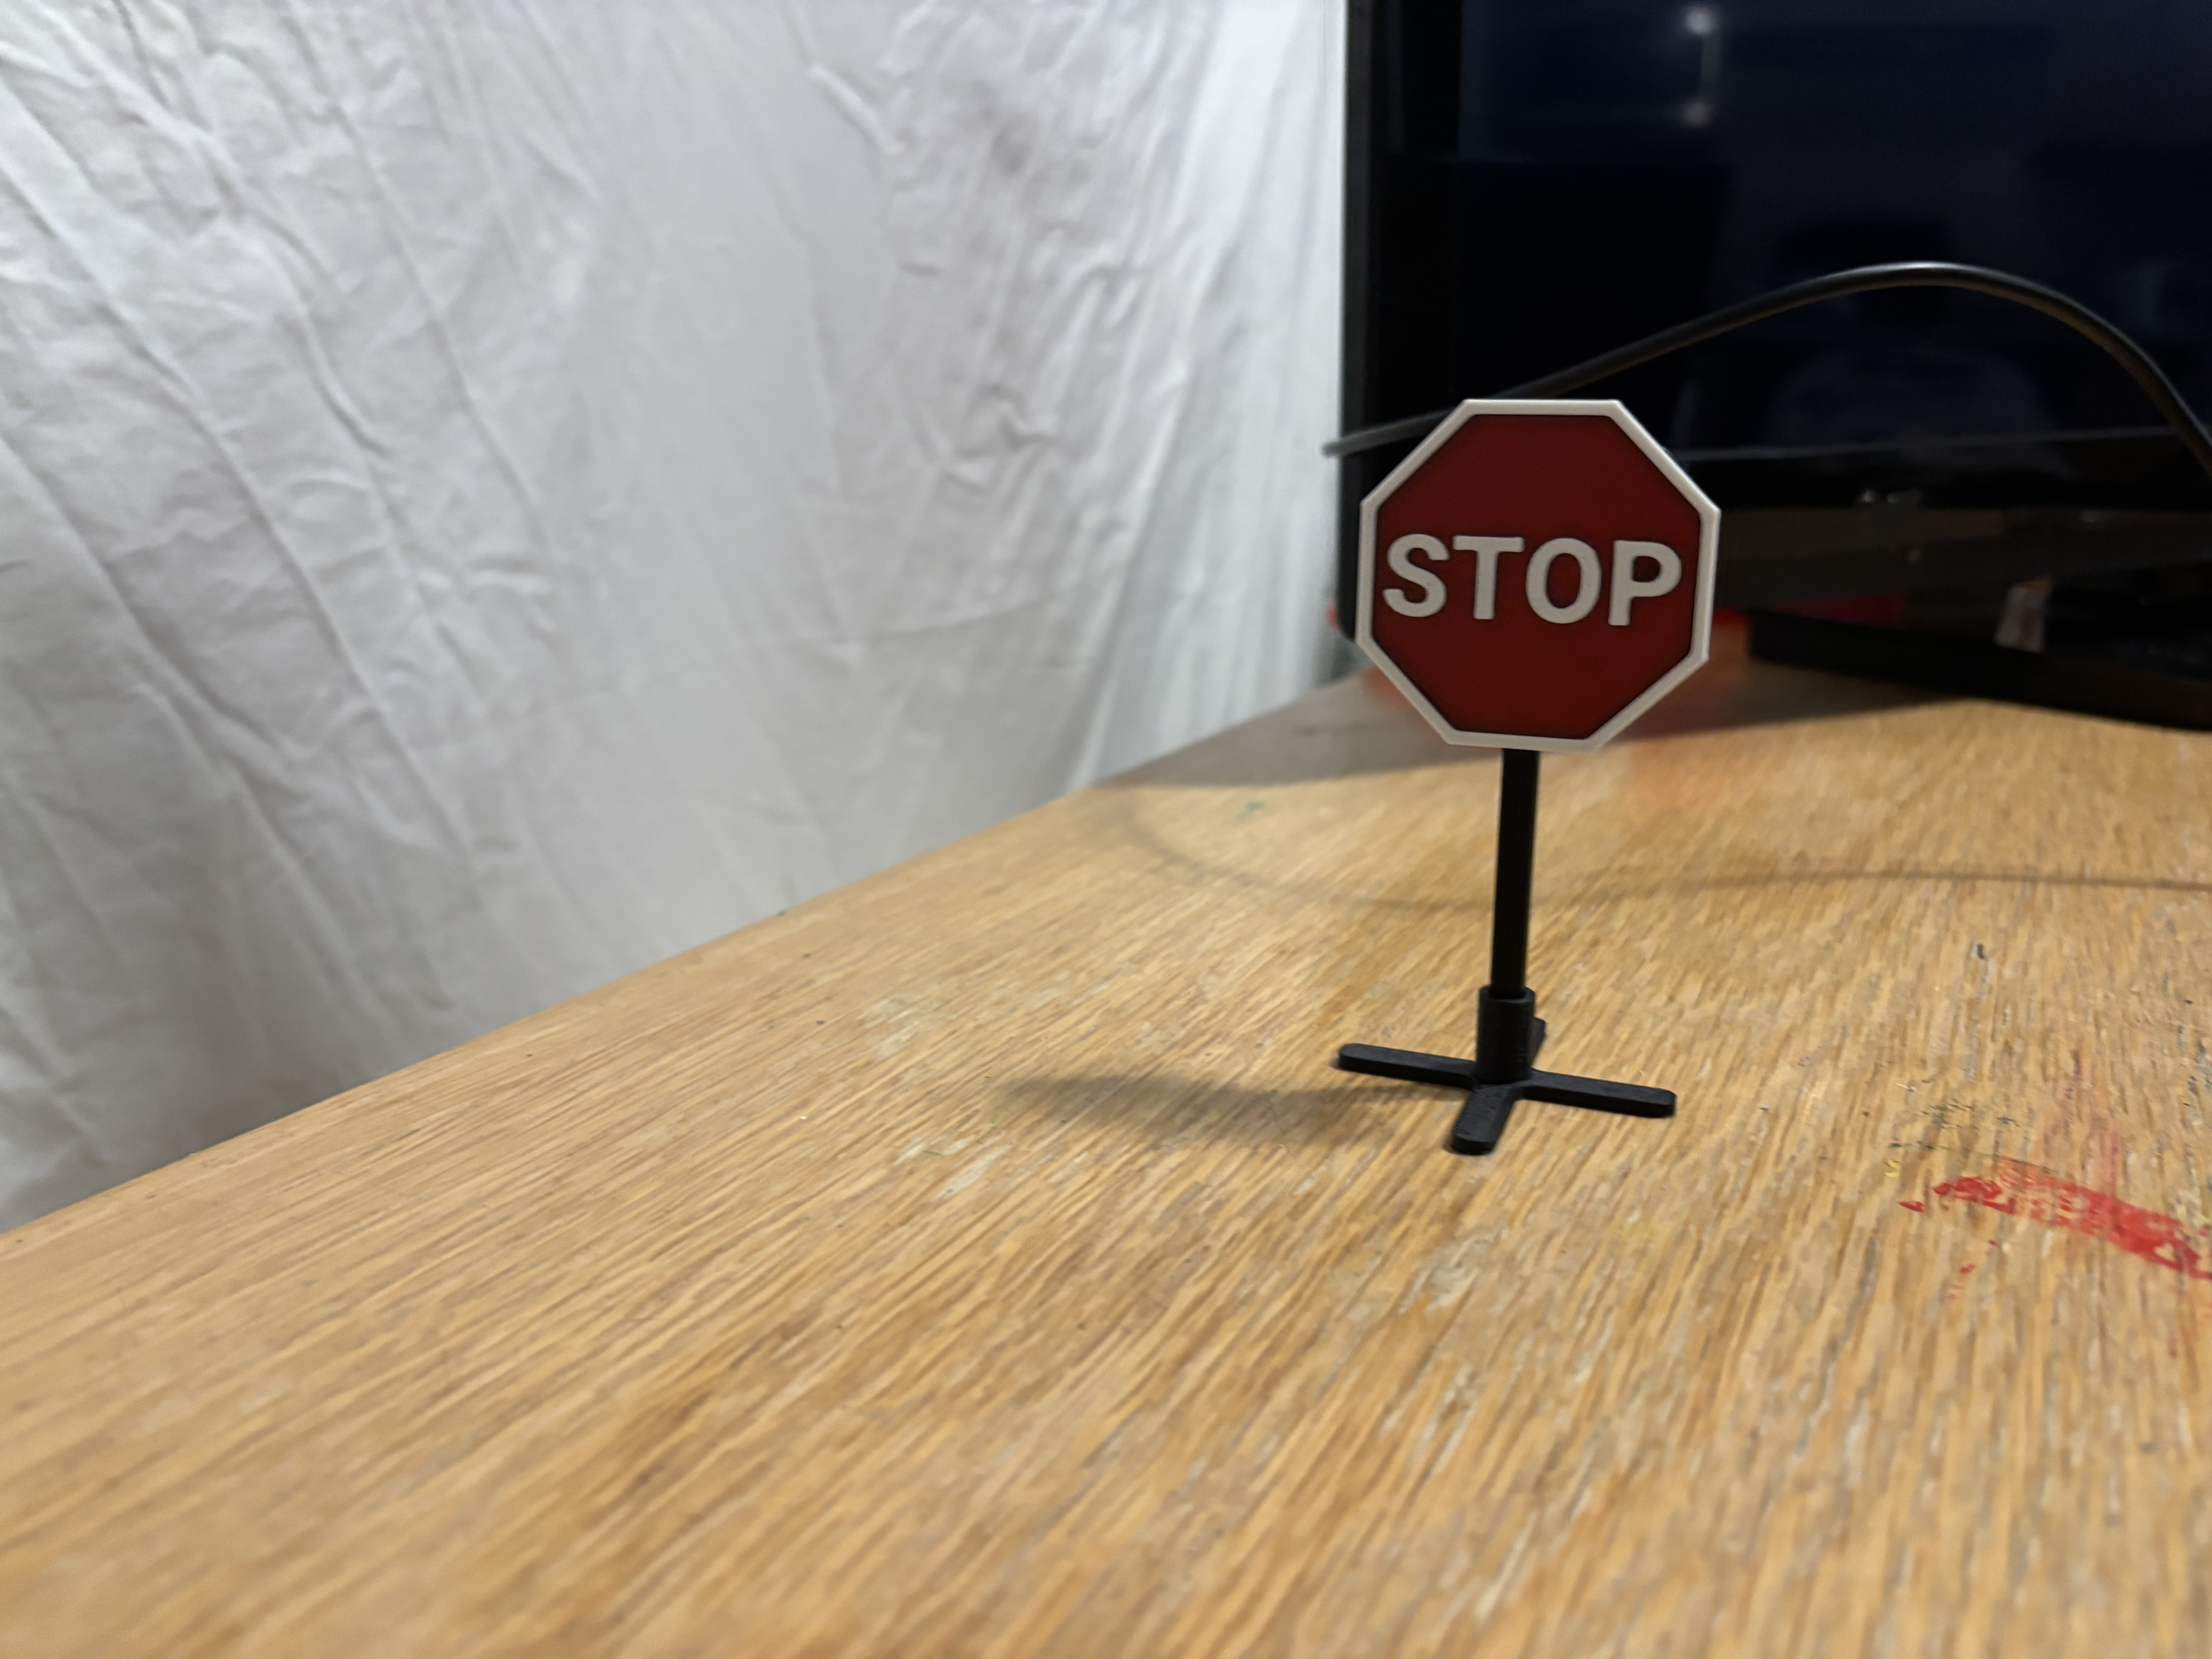sign_stop: (1338, 390, 1737, 748)
